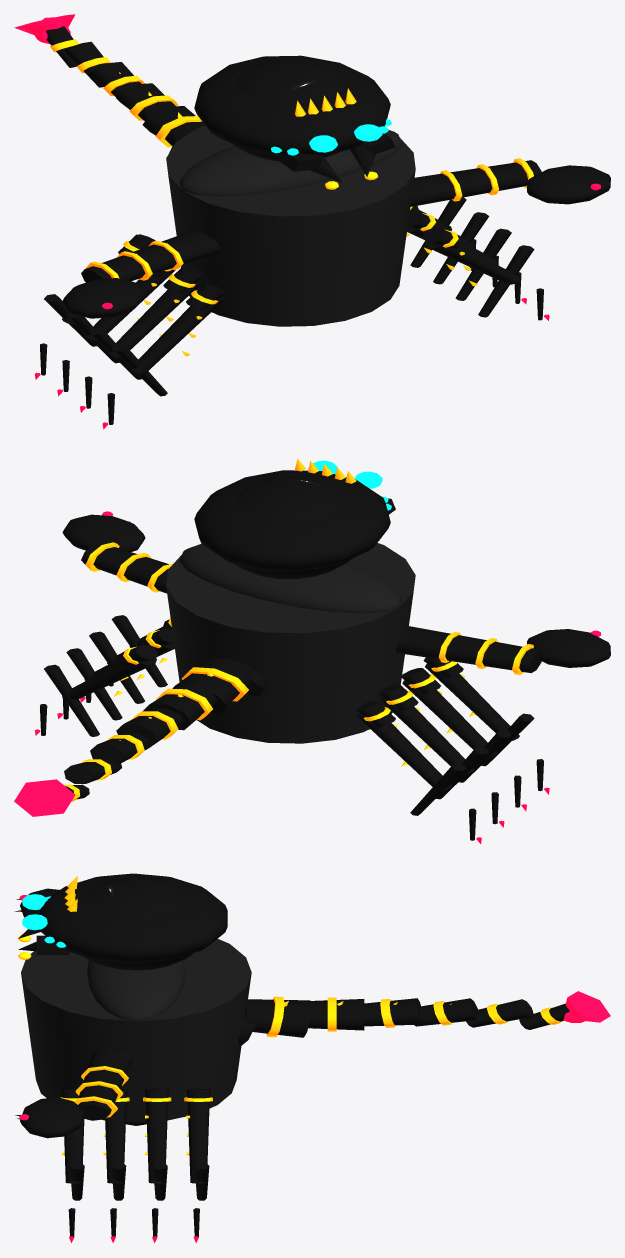
File: glbfactory-scorpion.glb
The picture shows the model from 3 angles, top to bottom: view 1: azimuth 30°, elevation 25°; view 2: azimuth 150°, elevation 25°; view 3: azimuth 270°, elevation 25°; orthographic projection. The views are drawn at different scales.
Visible parts, largest first — view 1: torso, scorpion-carapace, scorpion-tail, chest-top, skull, scorpion-pincer--1, scorpion-pincer-1, scorpion-leg-3, scorpion-leg-7, scorpion-leg-2, scorpion-manus-1, scorpion-manus--1 (+7 smaller); view 2: torso, scorpion-carapace, scorpion-tail, chest-top, skull, scorpion-pincer--1, scorpion-leg-0, scorpion-leg-4, scorpion-leg-2, scorpion-leg-1, scorpion-leg-3, scorpion-pincer-1 (+6 smaller); view 3: torso, scorpion-carapace, scorpion-tail, chest-top, skull, scorpion-pincer-1, scorpion-leg-5, scorpion-leg-4, scorpion-manus-1, scorpion-leg-6, scorpion-leg-7, scorpion-stinger.
Part boxes in pixels (x1=…): torso: x1=166, y1=125, x2=415, y2=326; scorpion-carapace: x1=194, y1=55, x2=390, y2=155; scorpion-tail: x1=34, y1=17, x2=205, y2=152; chest-top: x1=179, y1=129, x2=402, y2=196; skull: x1=233, y1=59, x2=342, y2=161; scorpion-pincer--1: x1=81, y1=230, x2=221, y2=311; scorpion-pincer-1: x1=410, y1=158, x2=600, y2=206; scorpion-leg-3: x1=102, y1=284, x2=225, y2=429; scorpion-leg-7: x1=423, y1=227, x2=549, y2=320; scorpion-leg-2: x1=80, y1=267, x2=203, y2=412; scorpion-manus-1: x1=527, y1=165, x2=610, y2=204; scorpion-manus--1: x1=62, y1=278, x2=145, y2=318; torso: x1=166, y1=543, x2=415, y2=743; scorpion-carapace: x1=194, y1=470, x2=390, y2=571; scorpion-tail: x1=41, y1=657, x2=269, y2=801; chest-top: x1=179, y1=544, x2=402, y2=613; skull: x1=235, y1=476, x2=351, y2=579; scorpion-pincer--1: x1=395, y1=626, x2=600, y2=675; scorpion-leg-0: x1=356, y1=701, x2=481, y2=843; scorpion-leg-4: x1=34, y1=644, x2=158, y2=736; scorpion-leg-2: x1=401, y1=668, x2=526, y2=811; scorpion-leg-1: x1=378, y1=684, x2=504, y2=827; scorpion-leg-3: x1=423, y1=657, x2=549, y2=794; scorpion-pincer-1: x1=81, y1=511, x2=173, y2=593; torso: x1=21, y1=938, x2=251, y2=1122; scorpion-carapace: x1=39, y1=873, x2=227, y2=963; scorpion-tail: x1=238, y1=996, x2=587, y2=1046; chest-top: x1=87, y1=960, x2=185, y2=1021; skull: x1=83, y1=877, x2=193, y2=970; scorpion-pincer-1: x1=15, y1=1049, x2=132, y2=1120; scorpion-leg-5: x1=143, y1=1088, x2=171, y2=1242; scorpion-leg-4: x1=184, y1=1088, x2=212, y2=1242; scorpion-manus-1: x1=20, y1=1097, x2=84, y2=1138; scorpion-leg-6: x1=103, y1=1089, x2=129, y2=1242; scorpion-leg-7: x1=60, y1=1088, x2=84, y2=1242; scorpion-stinger: x1=565, y1=991, x2=610, y2=1022.
Size of the model in its own units: 5.96 by 2.93 by 6.17.
Materials: 11 (1 with a texture image).
